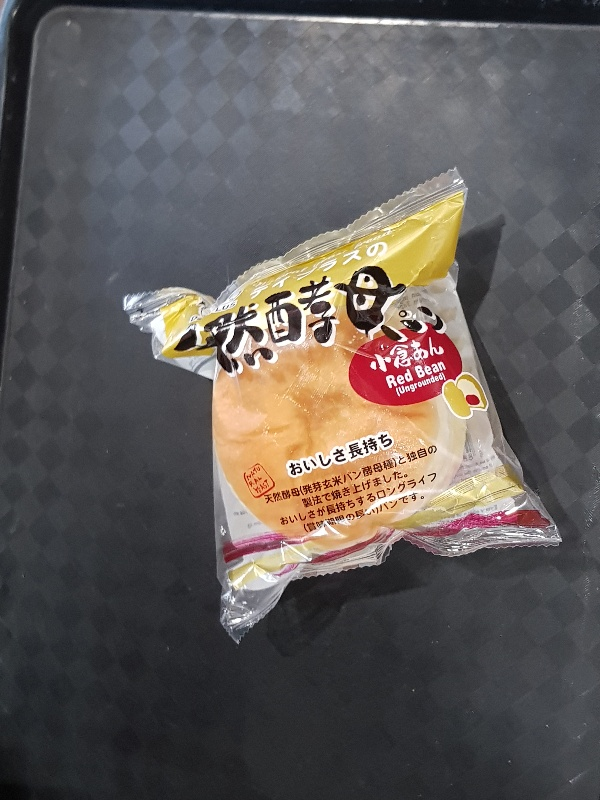Dayplus Red Bean: (122, 164, 562, 641)
